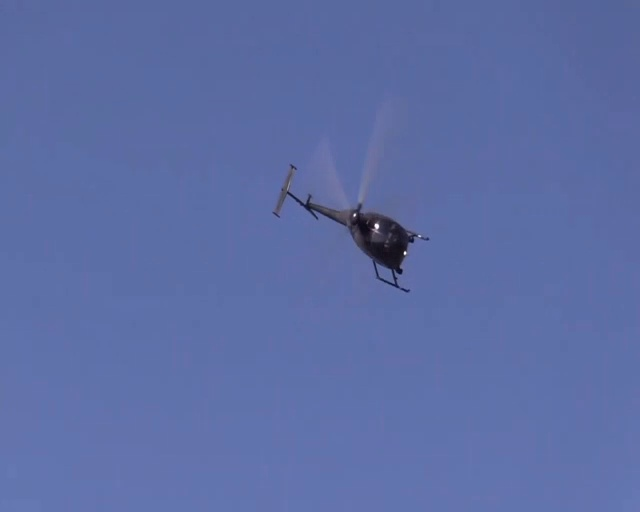HELICOPTER: (275, 117, 429, 294)
